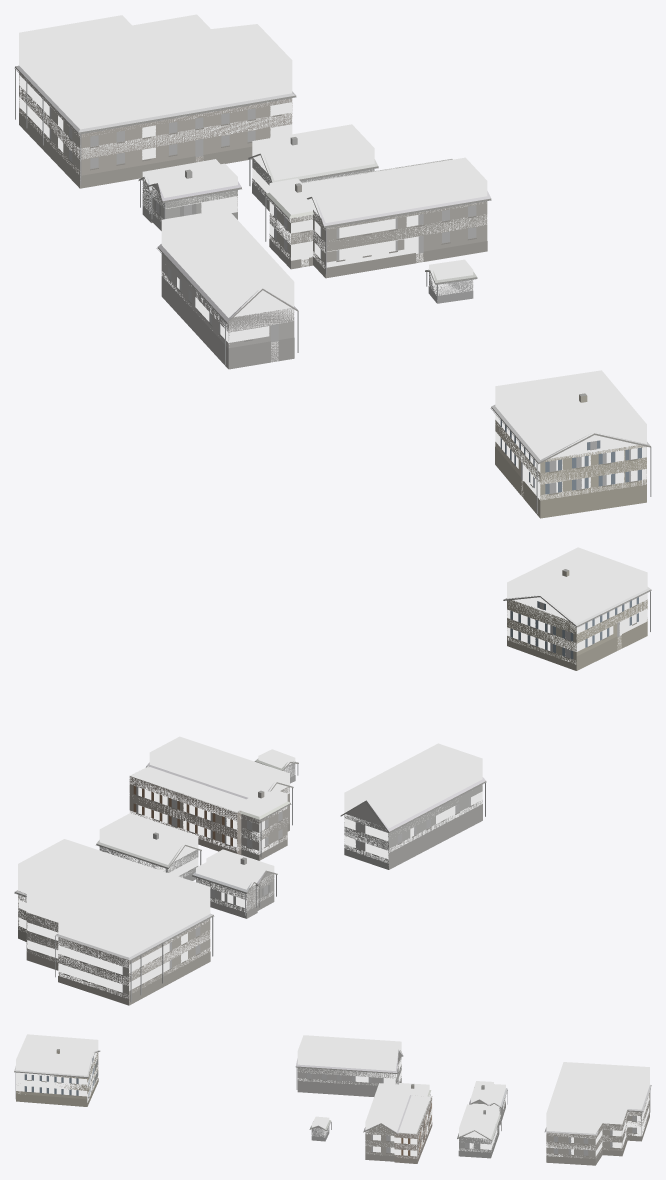
3 views of the same model, one above another, from view 1: azimuth 30°, elevation 25°; view 2: azimuth 150°, elevation 25°; view 3: azimuth 270°, elevation 25° (orthographic). The views are drawn at different scales.
Visible parts, largest first — view 1: col, bld; view 2: col, bld; view 3: col, bld.
Boxes of the visible parts, <box> form: col: <box>19,14,646,500</box>; bld: <box>14,65,651,518</box>; col: <box>18,547,647,997</box>; bld: <box>14,569,651,1005</box>; col: <box>16,1034,649,1158</box>; bld: <box>14,1049,651,1165</box>.
Bounding box in the file's own units: 43.73 × 16.33 × 135.
